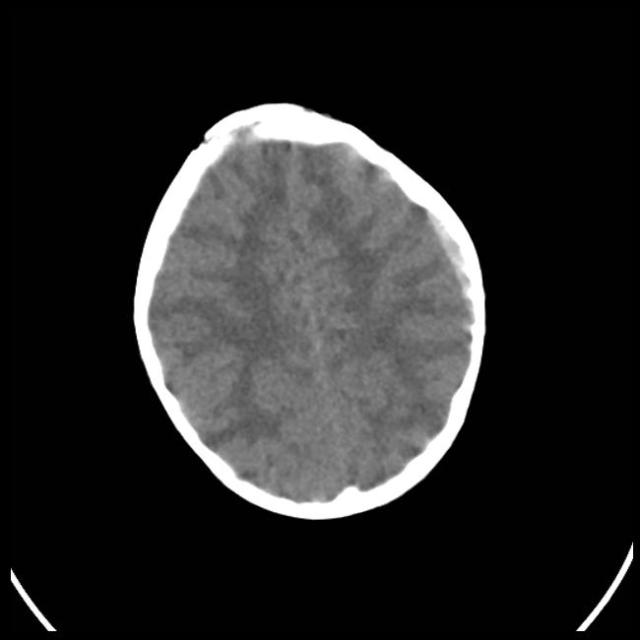lesion: (417, 197, 488, 340)
